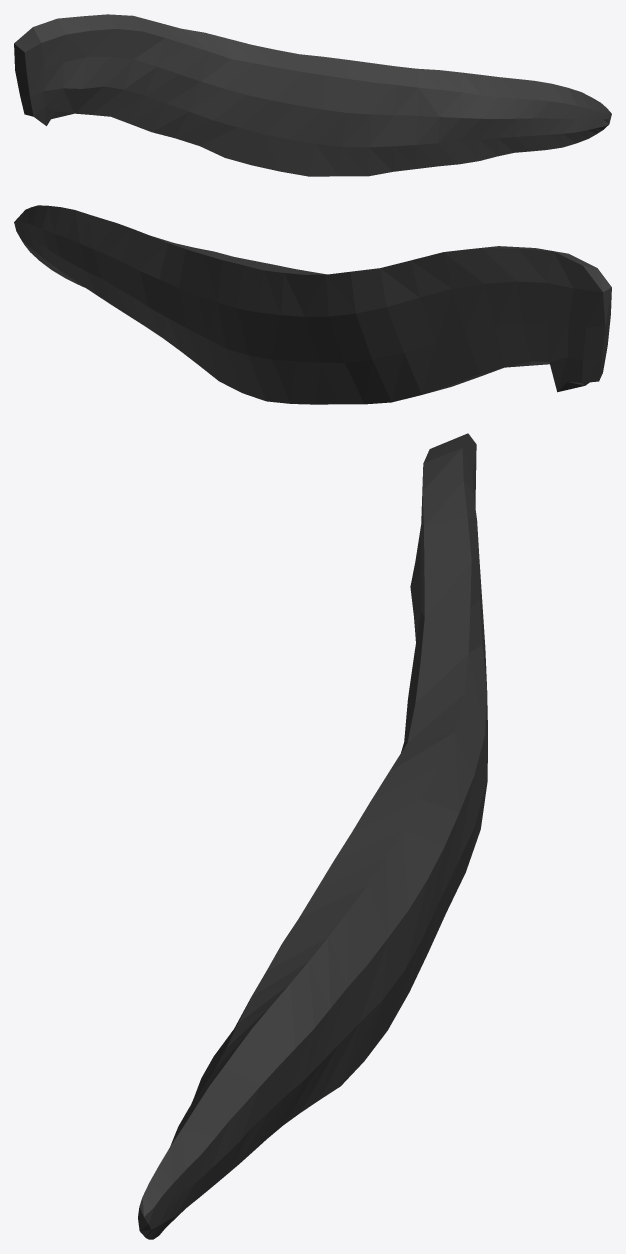
Rendered from Cranial_tibial_ligament.glb.
3 views of the same model, one above another, from view 1: azimuth 30°, elevation 25°; view 2: azimuth 150°, elevation 25°; view 3: azimuth 270°, elevation 25° (orthographic). The views are drawn at different scales.
Visible parts, largest first — view 1: Cranial_tibial_ligament; view 2: Cranial_tibial_ligament; view 3: Cranial_tibial_ligament.
Part boxes in pixels (x1,y1,x2,y2): Cranial_tibial_ligament: [14, 14, 611, 176]; Cranial_tibial_ligament: [14, 205, 611, 404]; Cranial_tibial_ligament: [138, 433, 487, 1239].
Bounding box in the file's own units: 0.1424 × 0.0499 × 0.0419.
1 material, 1 textured.
